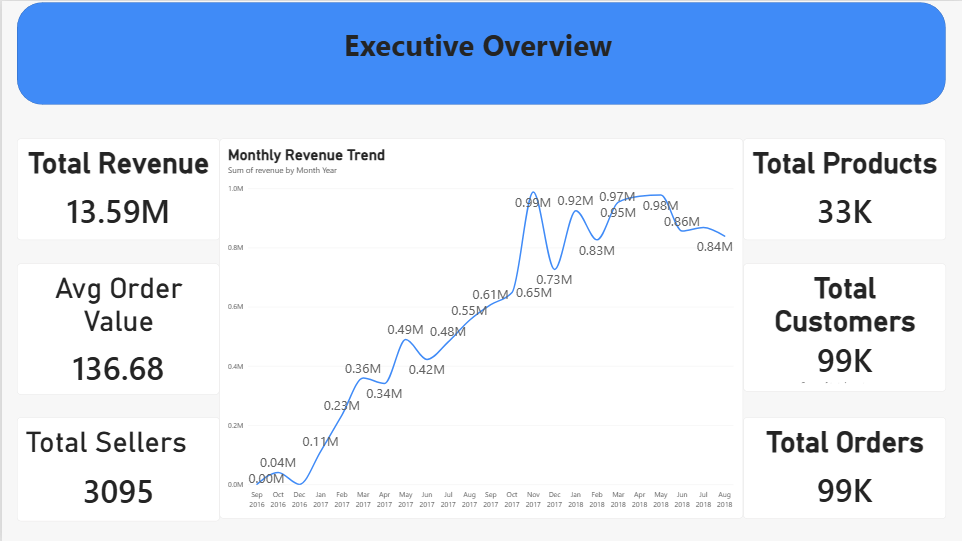

What the dashboard file says about the page in this screenshot:
{"tool":"powerbi","page":{"name":"Page 1","canvas":[1920,1080],"ordinal":0},"visuals":[{"type":"card","title":"Total Revenue","fields":{"Values":["Sum(public vw_executive_kpis.total_revenue)"]},"box":[30,275,405.8,202.9],"z":0},{"type":"card","title":"Total Orders","fields":{"Values":["Sum(public vw_executive_kpis.total_orders)"]},"box":[1482.5,832.5,405.8,202.9],"z":1000},{"type":"card","title":"Total Customers","fields":{"Values":["Sum(public vw_executive_kpis.total_customers)"]},"box":[1482.5,525,405.8,256.3],"z":2000},{"type":"card","title":"Total Products","fields":{"Values":["Sum(public vw_executive_kpis.total_products)"]},"box":[1482.5,275,405.8,202.9],"z":3000},{"type":"card","title":"Total Sellers","fields":{"Values":["Sum(public vw_executive_kpis.total_sellers)"]},"box":[30,832.5,405.8,208.2],"z":4000},{"type":"card","title":"Avg Order Value","fields":{"Values":["public vw_category_sales.Average Order Value"]},"box":[30,525,405,262.5],"z":5000},{"type":"lineChart","title":"Monthly Revenue Trend","fields":{"Category":["Calendar.Month Year"],"Y":["Sum(public vw_monthly_sales.revenue)"]},"box":[435,275,1047.5,760],"z":6000},{"type":"shape","box":[30,2.5,1857.5,205],"z":7001},{"type":"textbox","box":[100,47.5,1705,110],"z":7002}]}

Visuals, with their boxes in screenshot pixels (x1, y1, x2, y2), scaled from the page's 1920x1080 canvas onto the 962x541 screenshot:
"Total Revenue" card: <bbox>15, 138, 218, 239</bbox>
"Total Orders" card: <bbox>743, 417, 946, 519</bbox>
"Total Customers" card: <bbox>743, 263, 946, 391</bbox>
"Total Products" card: <bbox>743, 138, 946, 239</bbox>
"Total Sellers" card: <bbox>15, 417, 218, 521</bbox>
"Avg Order Value" card: <bbox>15, 263, 218, 394</bbox>
"Monthly Revenue Trend" lineChart: <bbox>218, 138, 743, 518</bbox>
shape: <bbox>15, 1, 946, 104</bbox>
textbox: <bbox>50, 24, 904, 79</bbox>
